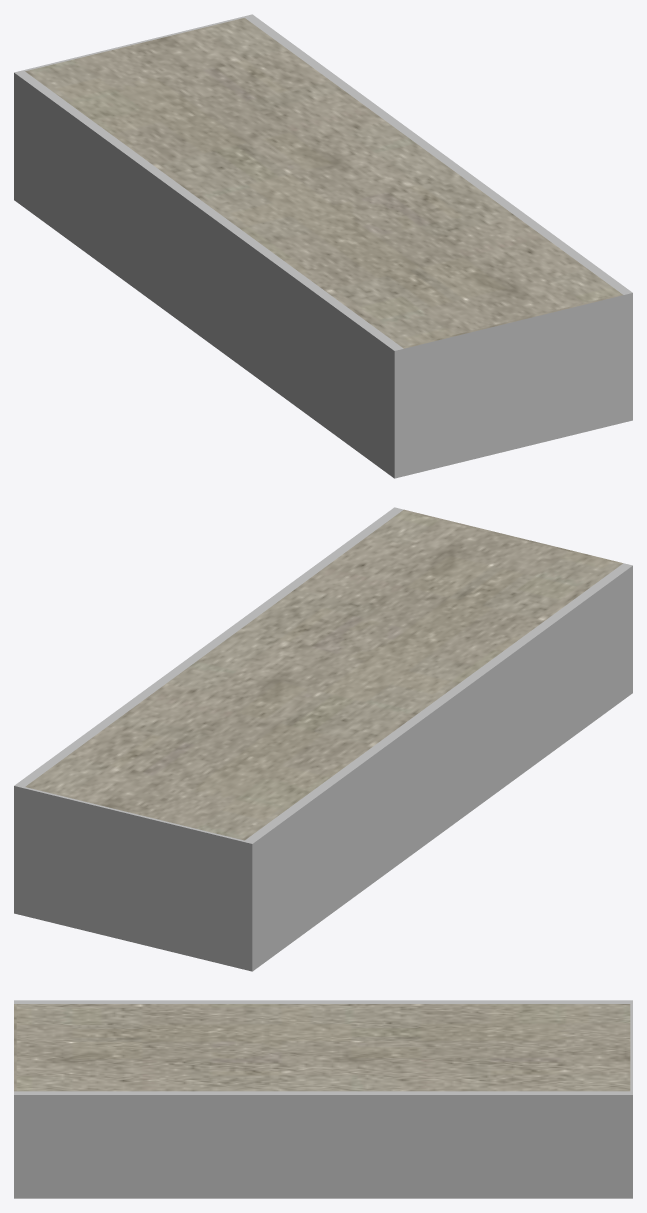
The model's file is road_w02b.fbx.
The picture shows the model from 3 angles, top to bottom: view 1: azimuth 30°, elevation 25°; view 2: azimuth 150°, elevation 25°; view 3: azimuth 270°, elevation 25°; orthographic projection. The views are drawn at different scales.
Parts seen in each view (by area): view 1: road_w02b; view 2: road_w02b; view 3: road_w02b.
Part boxes in pixels (<box>): road_w02b: <box>14,14,632,478</box>; road_w02b: <box>14,507,632,971</box>; road_w02b: <box>14,1000,632,1198</box>.
Size of the model in its own units: 4.34 by 2.22 by 12.
